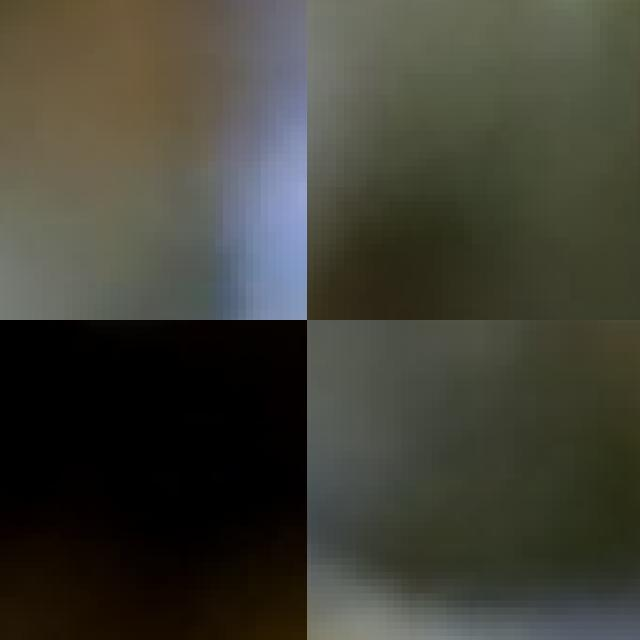fish: (307, 320, 640, 640), (0, 0, 307, 320)
